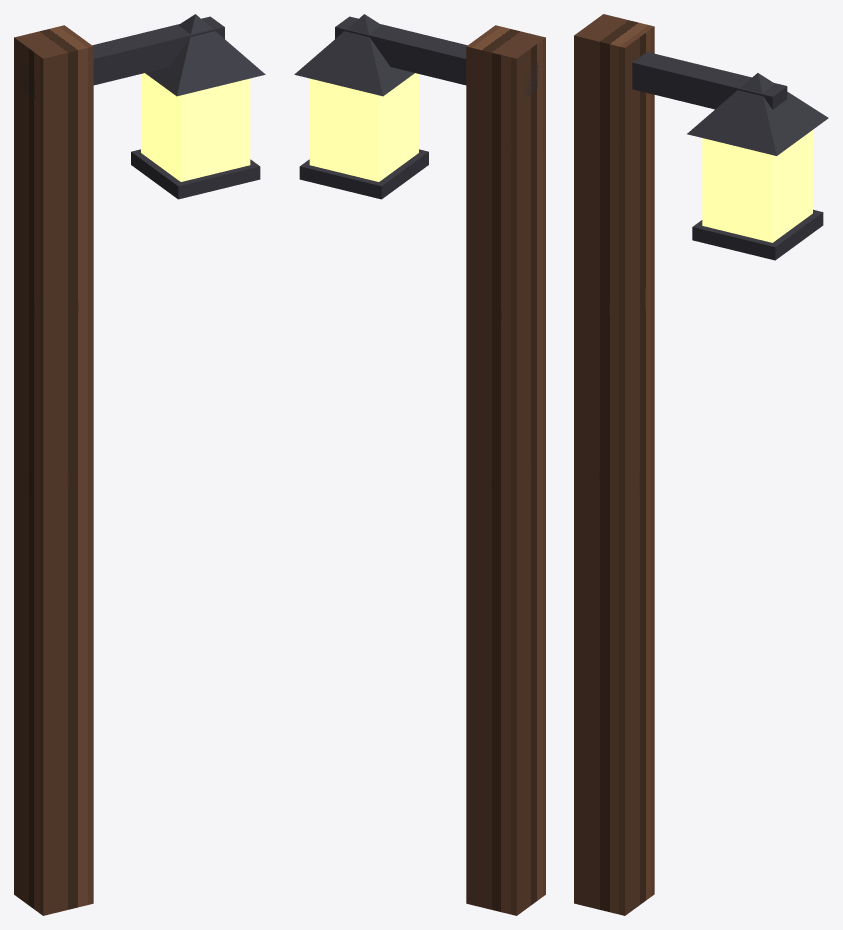
The model's file is lamp.glb.
The picture shows the model from 3 angles, left to right: view 1: azimuth 30°, elevation 25°; view 2: azimuth 150°, elevation 25°; view 3: azimuth 330°, elevation 25°; orthographic projection.
Parts seen in each view (by area): view 1: Lamp; view 2: Lamp; view 3: Lamp.
Boxes of the visible parts, x1,y1,x2,y2 form: Lamp: (14,14,265,915); Lamp: (294,14,545,915); Lamp: (574,14,828,915).
Bounding box in the file's own units: 0.6714 × 2.6 × 0.2828.
3 materials, 1 textured.
